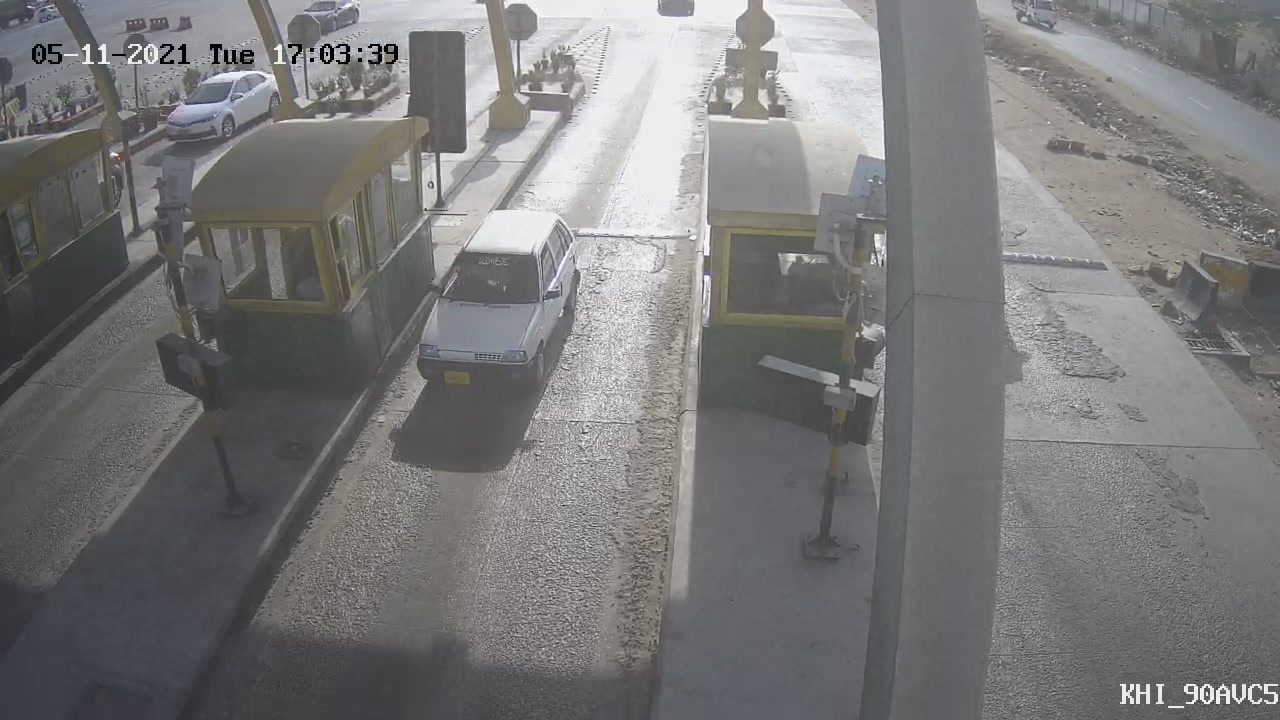F1: (386, 195, 603, 404)
